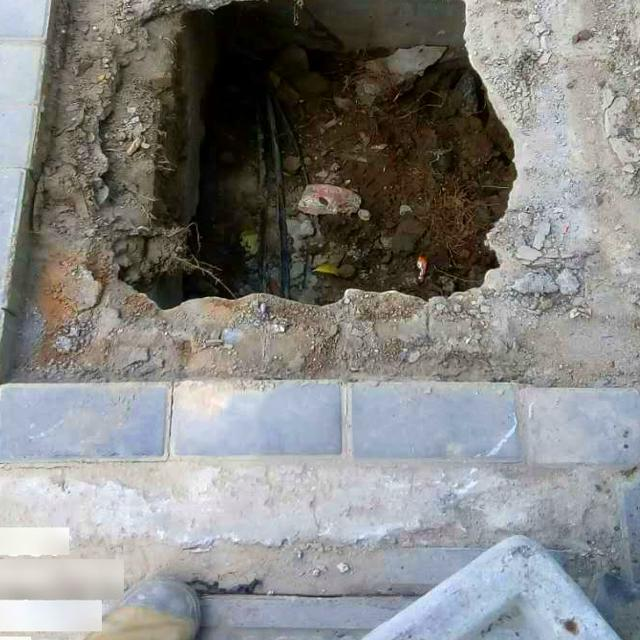lose: (0, 0, 640, 382)
